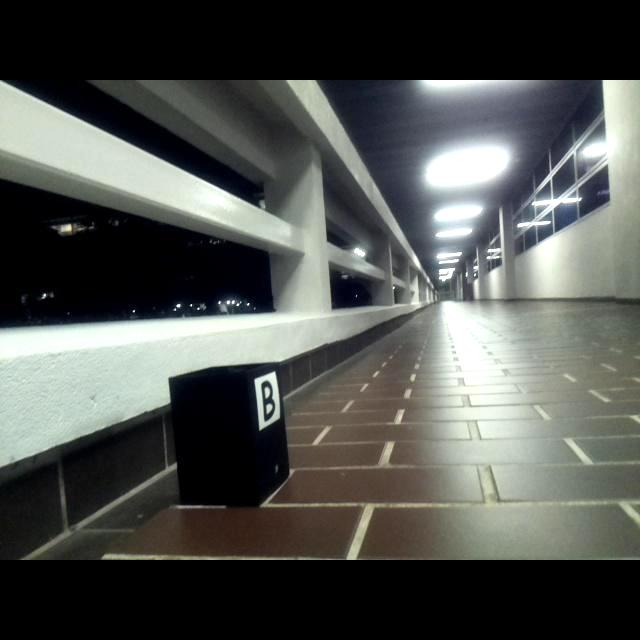B: (261, 380, 276, 422)
